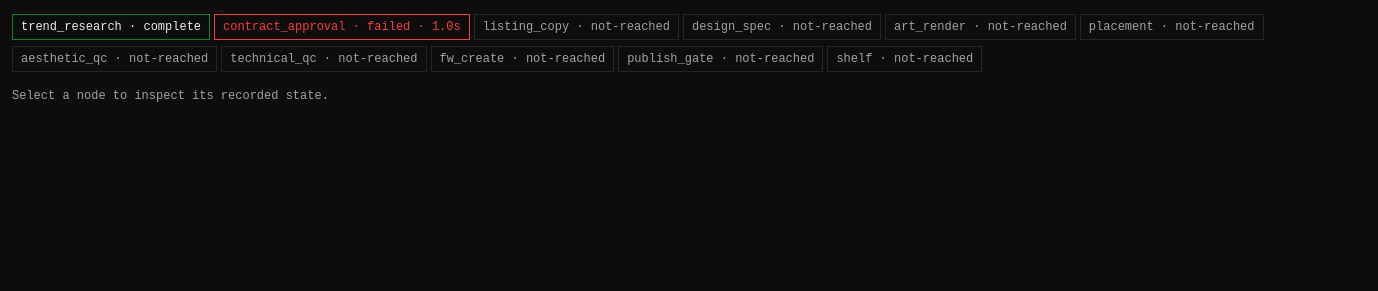
RunDetailView › logs tab shows the failed node's reason without container logs
What coordinates should you click on to do the following:
click the button titled "contract_approval: failed"
I would click on:
 (342, 27)
Its box is [214,14,470,40].
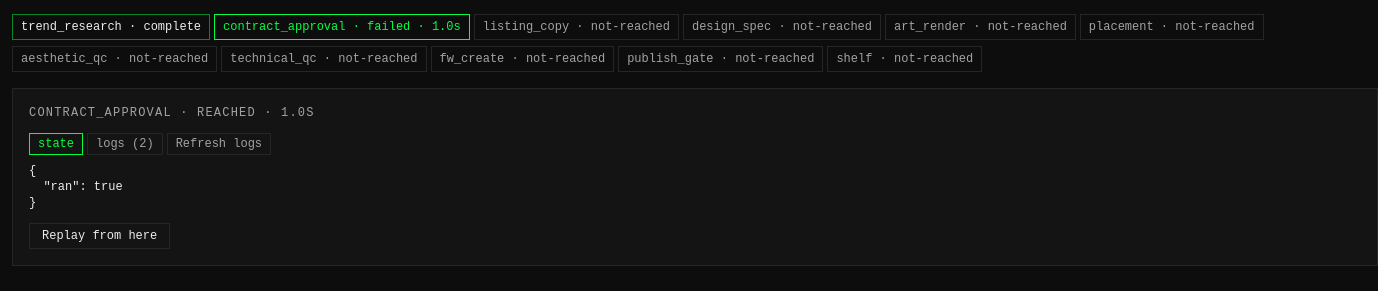
What coordinates should you click on to do the following:
click the tab "logs (2)"
I would click on:
 (125, 144)
Its box is [87,133,163,155].
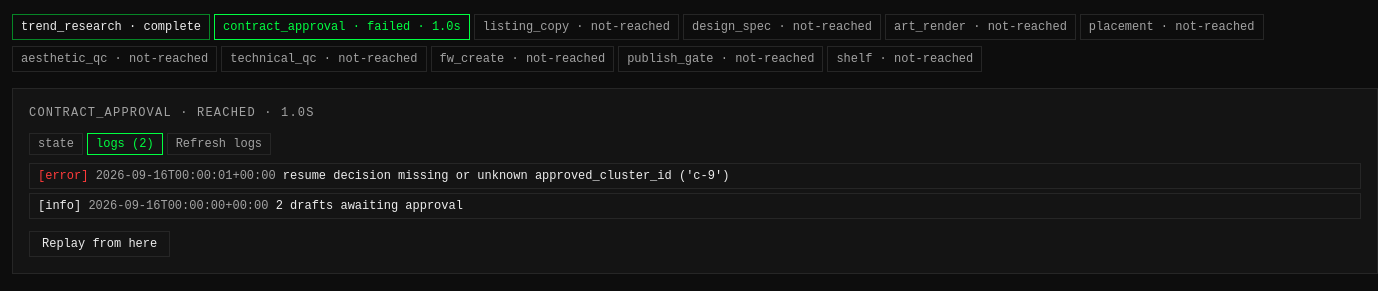
Result: the text "resume decision missing" is shown at [283,169,729,183]
